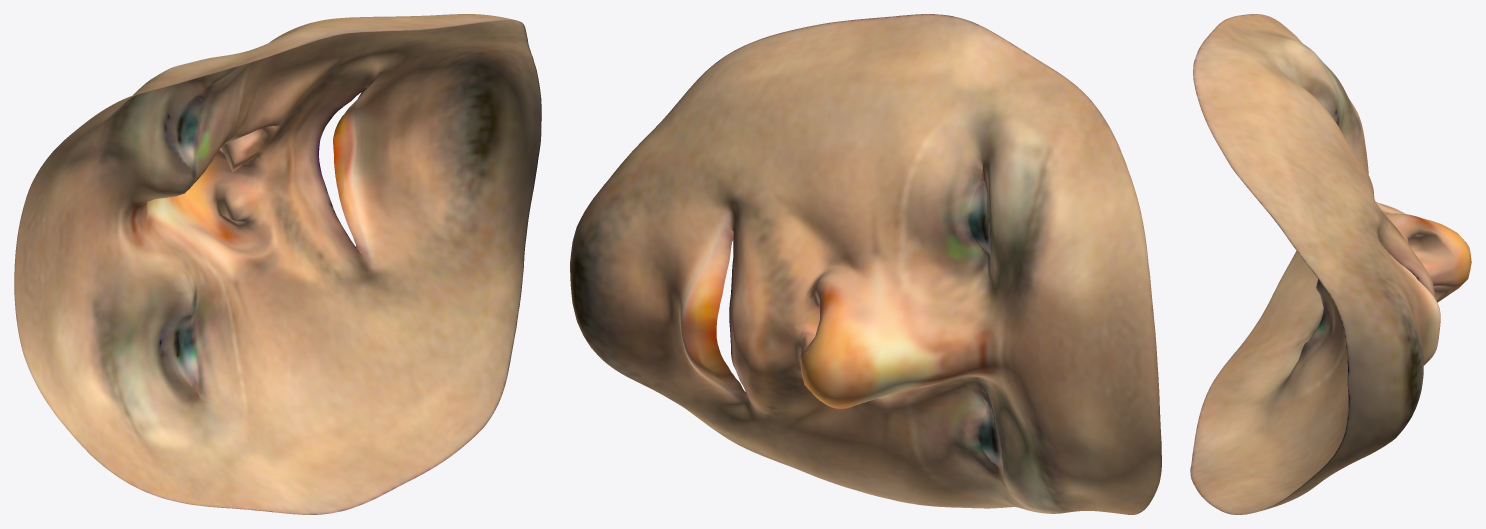
Rendered from NextFace.glb.
3 renders of one model, left to right at view 1: azimuth 30°, elevation 25°; view 2: azimuth 150°, elevation 25°; view 3: azimuth 270°, elevation 25°, orthographic. The views are drawn at different scales.
Visible parts, largest first — view 1: mesh0.006; view 2: mesh0.006; view 3: mesh0.006.
Part boxes in pixels (bbox=[...]): mesh0.006: bbox=[14, 14, 541, 514]; mesh0.006: bbox=[570, 14, 1161, 514]; mesh0.006: bbox=[1190, 14, 1471, 514].
Size of the model in its own units: 1 by 0.8315 by 0.5059.
Materials: 1 (1 with a texture image).
